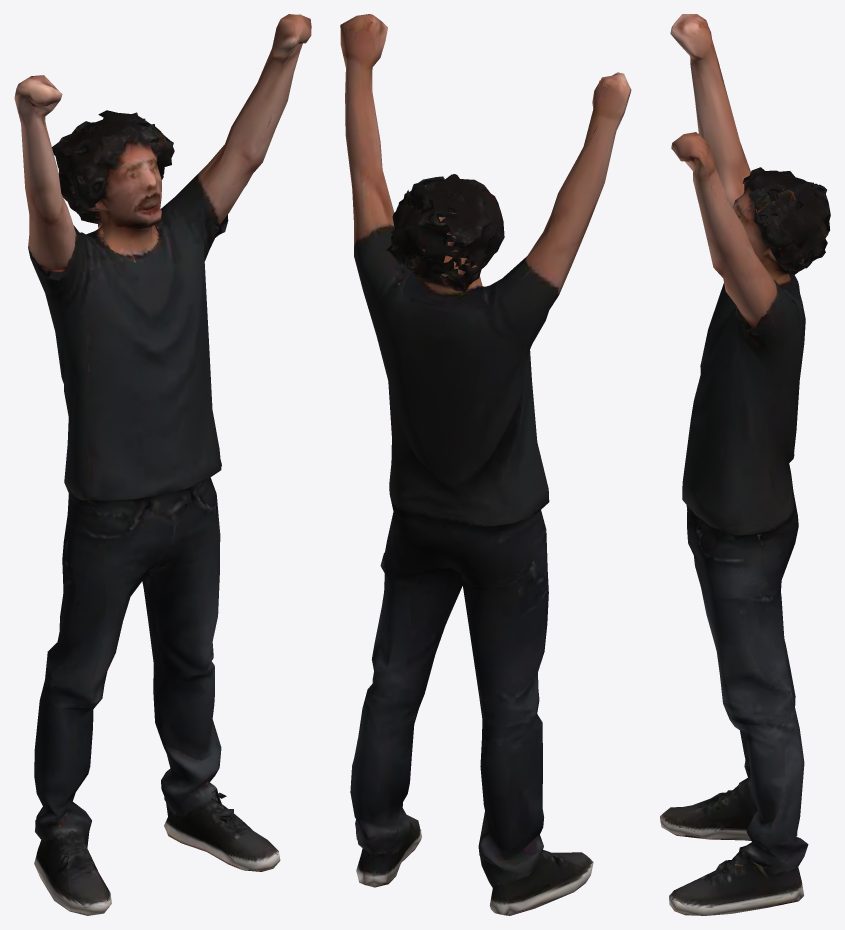
File: fan-arms-up-s2.lo.glb
The picture shows the model from 3 angles, left to right: view 1: azimuth 30°, elevation 25°; view 2: azimuth 150°, elevation 25°; view 3: azimuth 270°, elevation 25°; orthographic projection. The views are drawn at different scales.
Visible parts, largest first — view 1: geometry_0; view 2: geometry_0; view 3: geometry_0.
Part boxes in pixels (box(x1,y1,x2,y2)): geometry_0: box(14, 14, 311, 915); geometry_0: box(340, 14, 631, 915); geometry_0: box(660, 14, 830, 915).
Bounding box in the file's own units: 0.3678 × 0.9984 × 0.1951.
1 material, 1 textured.
